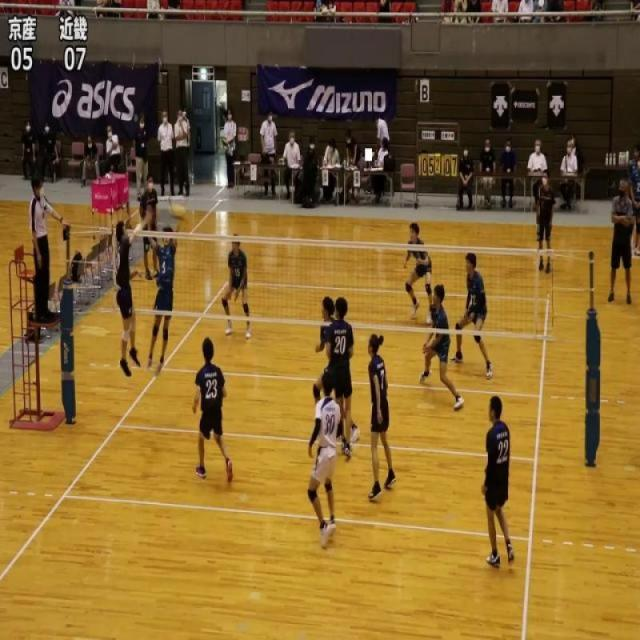volleyball: (168, 203, 188, 223)
